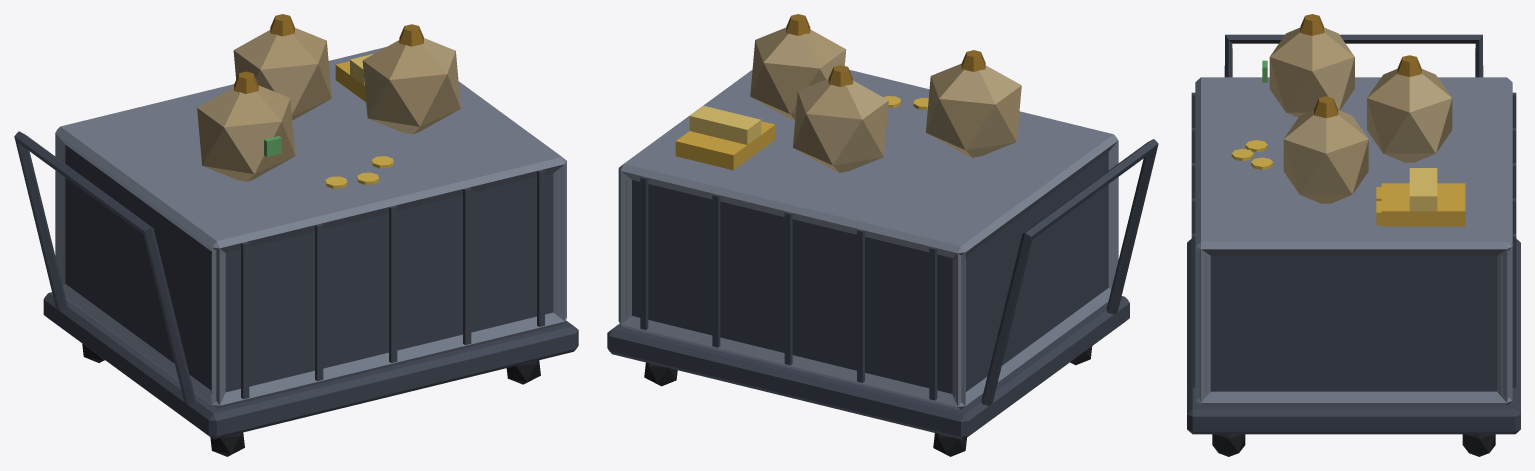
File: kit-newyork-crate.glb
3 views of the same model, side by side, from view 1: azimuth 30°, elevation 25°; view 2: azimuth 150°, elevation 25°; view 3: azimuth 270°, elevation 25° (orthographic). The views are drawn at different scales.
Visible parts, largest first — view 1: kit-newyork-crate; view 2: kit-newyork-crate; view 3: kit-newyork-crate.
Boxes of the visible parts, x1,y1,x2,y2 form: kit-newyork-crate: (14, 14, 578, 456); kit-newyork-crate: (607, 14, 1158, 456); kit-newyork-crate: (1187, 14, 1520, 456).
Bounding box in the file's own units: 1.69 × 1.3 × 1.2.
